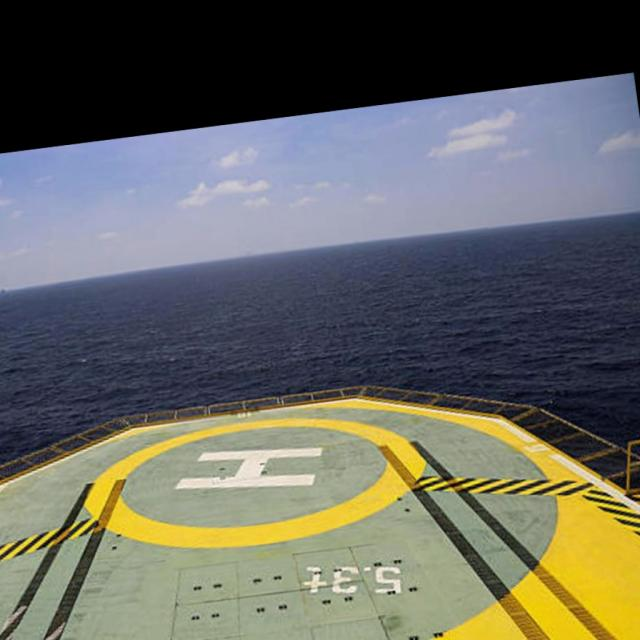helipad: (75, 412, 428, 554)
